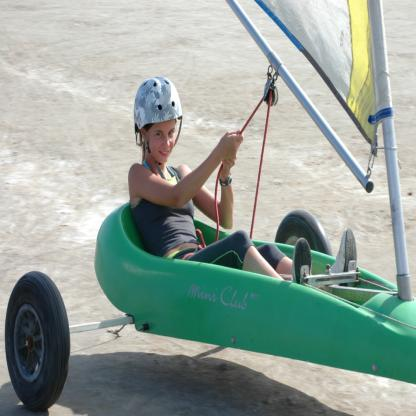Helmet: (133, 74, 182, 180)
